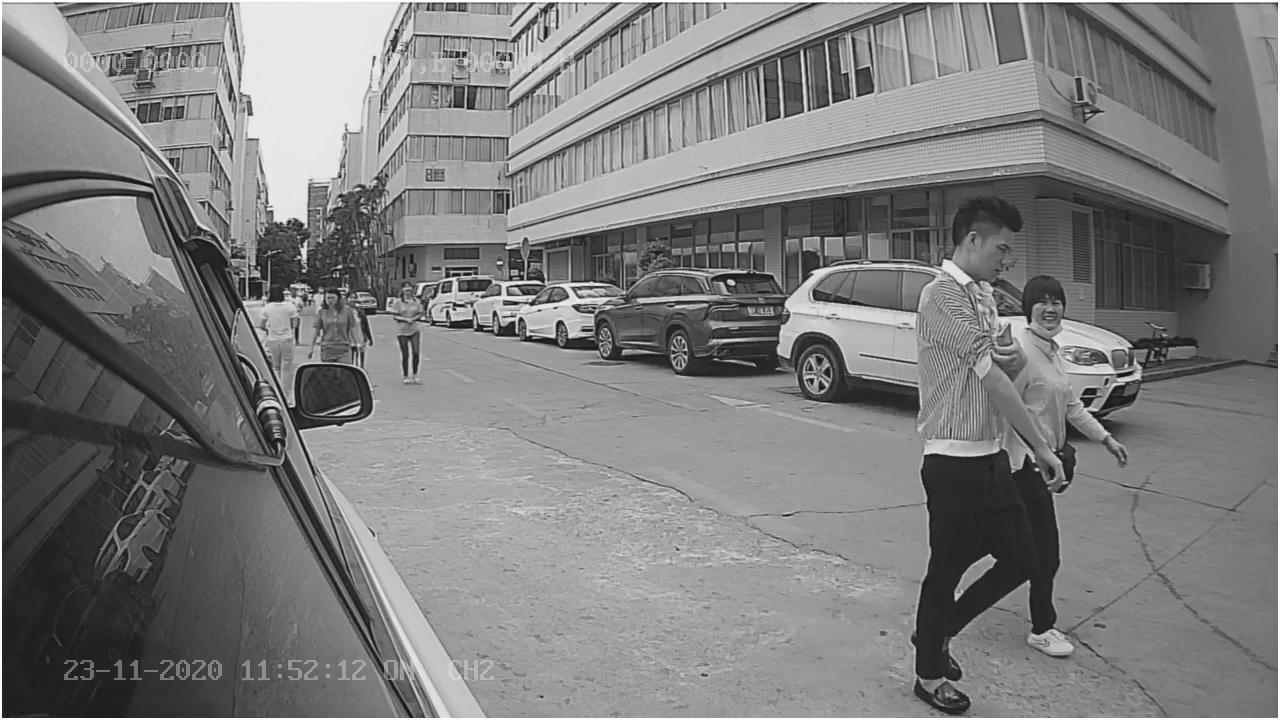person: (861, 187, 1037, 710)
